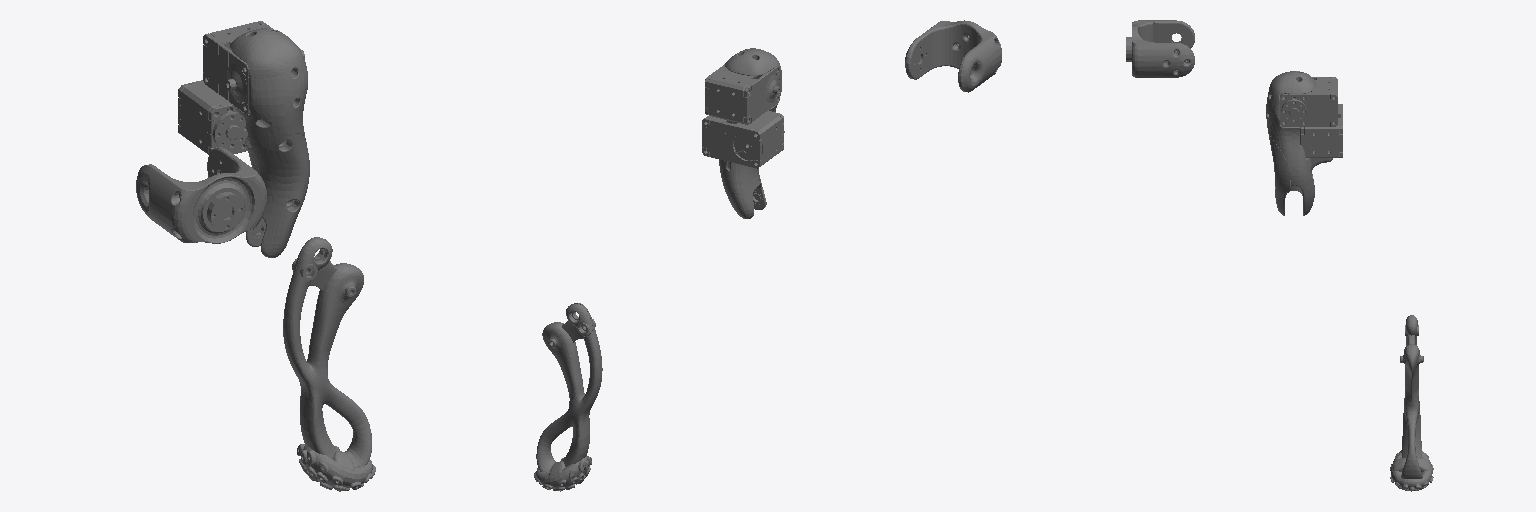
The robot description file, URDF, robot "normaleg2.SLDASM":
<robot
  name="normaleg2.SLDASM">
  <link
    name="body">
    <inertial>
      <origin
        xyz="0 0 0"
        rpy="0 0 0" />
      <mass
        value="0.1" />
      <inertia
        ixx="0.001"
        ixy="0"
        ixz="0"
        iyy="0.001"
        iyz="0"
        izz="0.001" />
    </inertial>
    <visual>
      <origin
        xyz="0 0 0"
        rpy="0 0 0" />
      <geometry>
        <mesh
          filename="package://Nyanko/NyankoModel/meshes/body.stl" />
      </geometry>
      <material
        name="">
        <color
          rgba="0.5 0.5 0.5 1" />
      </material>
    </visual>
    <collision>
      <origin
        xyz="0 0 0"
        rpy="0 0 0" />
      <geometry>
        <mesh
          filename="package://Nyanko/NyankoModel/meshes/body.stl" />
      </geometry>
    </collision>
  </link>
  <link
    name="link0_0">
    <inertial>
      <origin
        xyz="0 0 0"
        rpy="0 0 0" />
      <mass
        value="0.1" />
      <inertia
        ixx="0.001"
        ixy="0"
        ixz="0"
        iyy="0.001"
        iyz="0"
        izz="0.001" />
    </inertial>
    <visual>
      <origin
        xyz="0 0 0"
        rpy="0 0 0" />
      <geometry>
        <mesh
          filename="package://NyankoModel/meshes/link0_0.stl" />
      </geometry>
      <material
        name="">
        <color
          rgba="0.5 0.5 0.5 1" />
      </material>
    </visual>
    <collision>
      <origin
        xyz="0 0 0"
        rpy="0 0 0" />
      <geometry>
        <mesh
          filename="package://NyankoModel/meshes/link0_0.stl" />
      </geometry>
    </collision>
  </link>
  <joint
    name="joint0_0"
    type="revolute">
    <origin
      xyz="100E-3 94E-3 0"
      rpy="0 0 0" />
    <parent
      link="body" />
    <child
      link="link0_0" />
    <axis
      xyz="0 1 0" />
    <limit
      lower="-3.14159"
      upper="3.14159"
      effort="0"
      velocity="0" />
  </joint>
  <link
    name="link0_1">
    <inertial>
      <origin
        xyz="0 0 0"
        rpy="0 0 0" />
      <mass
        value="0.1" />
      <inertia
        ixx="0.001"
        ixy="0"
        ixz="0"
        iyy="0.001"
        iyz="0"
        izz="0.001" />
    </inertial>
    <visual>
      <origin
        xyz="0 0 0"
        rpy="0 0 0" />
      <geometry>
        <mesh
          filename="package://NyankoModel/meshes/link0_1.stl" />
      </geometry>
      <material
        name="">
        <color
          rgba="0.5 0.5 0.5 1" />
      </material>
    </visual>
    <collision>
      <origin
        xyz="0 0 0"
        rpy="0 0 0" />
      <geometry>
        <mesh
          filename="package://NyankoModel/meshes/link0_1.stl" />
      </geometry>
    </collision>
  </link>
  <joint
    name="joint0_1"
    type="revolute">
    <origin
      xyz="100E-3 94E-3 0"
      rpy="0 0 0" />
    <parent
      link="link0_0" />
    <child
      link="link0_1" />
    <axis
      xyz="1 0 0" />
    <limit
      lower="-3.14159"
      upper="3.14159"
      effort="0"
      velocity="0" />
  </joint>
  <link
    name="link0_2">
    <inertial>
      <origin
        xyz="0 0 0"
        rpy="0 0 0" />
      <mass
        value="0.1" />
      <inertia
        ixx="0.001"
        ixy="0"
        ixz="0"
        iyy="0.001"
        iyz="0"
        izz="0.001" />
    </inertial>
    <visual>
      <origin
        xyz="0 0 0"
        rpy="0 0 0" />
      <geometry>
        <mesh
          filename="package://NyankoModel/meshes/link0_2.stl" />
      </geometry>
      <material
        name="">
        <color
          rgba="0.5 0.5 0.5 1" />
      </material>
    </visual>
    <collision>
      <origin
        xyz="0 0 0"
        rpy="0 0 0" />
      <geometry>
        <mesh
          filename="package://NyankoModel/meshes/link0_2.stl" />
      </geometry>
    </collision>
  </link>
  <joint
    name="joint0_2"
    type="revolute">
    <origin
      xyz="100E-3 94E-3 -90E-3"
      rpy="0 0 0" />
    <parent
      link="link0_1" />
    <child
      link="link0_2" />
    <axis
      xyz="0 1 0" />
    <limit
      lower="-3.14159"
      upper="3.14159"
      effort="0"
      velocity="0" />
  </joint>
  <!-- <link
    name="link1_0">
    <inertial>
      <origin
        xyz="-8.18789480661053E-15 0.0286597433757145 -0.00828480696674982"
        rpy="0 0 0" />
      <mass
        value="0.119993622434813" />
      <inertia
        ixx="0.00058348983011341"
        ixy="7.75056537842799E-17"
        ixz="1.10799777903772E-17"
        iyy="0.00052289059772021"
        iyz="1.38974545464624E-07"
        izz="8.31021201387875E-05" />
    </inertial>
    <visual>
      <origin
        xyz="0 0 0"
        rpy="0 0 0" />
      <geometry>
        <mesh
          filename="package://normaleg2.SLDASM/meshes/link1_0.STL" />
      </geometry>
      <material
        name="">
        <color
          rgba="0.752941176470588 0.752941176470588 0.752941176470588 1" />
      </material>
    </visual>
    <collision>
      <origin
        xyz="0 0 0"
        rpy="0 0 0" />
      <geometry>
        <mesh
          filename="package://normaleg2.SLDASM/meshes/link1_0.STL" />
      </geometry>
    </collision>
  </link>
  <joint
    name="joint1_0"
    type="revolute">
    <origin
      xyz="-0.1225 0.0708 3.2938E-05"
      rpy="0 0 0" />
    <parent
      link="body" />
    <child
      link="link1_0" />
    <axis
      xyz="0 1 0" />
    <limit
      lower="-2.2"
      upper="2.2"
      effort="0"
      velocity="0" />
  </joint>
  <link
    name="link1_1">
    <inertial>
      <origin
        xyz="3.41040538864856E-09 0.0253978796233885 -0.032755096721108"
        rpy="0 0 0" />
      <mass
        value="0.114258764392469" />
      <inertia
        ixx="0.000188444989050106"
        ixy="-7.91169407760288E-12"
        ixz="-6.27777906752786E-12"
        iyy="0.000166128787576779"
        iyz="-1.23196533852848E-06"
        izz="3.56976105614846E-05" />
    </inertial>
    <visual>
      <origin
        xyz="0 0 0"
        rpy="0 0 0" />
      <geometry>
        <mesh
          filename="package://normaleg2.SLDASM/meshes/link1_1.STL" />
      </geometry>
      <material
        name="">
        <color
          rgba="0.752941176470588 0.752941176470588 0.752941176470588 1" />
      </material>
    </visual>
    <collision>
      <origin
        xyz="0 0 0"
        rpy="0 0 0" />
      <geometry>
        <mesh
          filename="package://normaleg2.SLDASM/meshes/link1_1.STL" />
      </geometry>
    </collision>
  </link>
  <joint
    name="joint1_1"
    type="revolute">
    <origin
      xyz="0 0.0036 -0.11"
      rpy="0 0 0" />
    <parent
      link="link1_0" />
    <child
      link="link1_1" />
    <axis
      xyz="0 1 0" />
    <limit
      lower="-2.2"
      upper="2.2"
      effort="0"
      velocity="0" />
  </joint>
  <link
    name="link2_0">
    <inertial>
      <origin
        xyz="7.81319453579954E-15 -0.0286597433757144 -0.00828480696674894"
        rpy="0 0 0" />
      <mass
        value="0.119993622434813" />
      <inertia
        ixx="0.000583489830113411"
        ixy="7.74467388923928E-17"
        ixz="-1.09735998480262E-17"
        iyy="0.000522890597720211"
        iyz="-1.38974545461629E-07"
        izz="8.31021201387877E-05" />
    </inertial>
    <visual>
      <origin
        xyz="0 0 0"
        rpy="0 0 0" />
      <geometry>
        <mesh
          filename="package://normaleg2.SLDASM/meshes/link2_0.STL" />
      </geometry>
      <material
        name="">
        <color
          rgba="0.752941176470588 0.752941176470588 0.752941176470588 1" />
      </material>
    </visual>
    <collision>
      <origin
        xyz="0 0 0"
        rpy="0 0 0" />
      <geometry>
        <mesh
          filename="package://normaleg2.SLDASM/meshes/link2_0.STL" />
      </geometry>
    </collision>
  </link>
  <joint
    name="joint2_0"
    type="revolute">
    <origin
      xyz="0.1225 -0.0708 3.2938E-05"
      rpy="0 0 0" />
    <parent
      link="body" />
    <child
      link="link2_0" />
    <axis
      xyz="0 1 0" />
    <limit
      lower="-2.2"
      upper="2.2"
      effort="0"
      velocity="0" />
  </joint>
  <link
    name="link2_1">
    <inertial>
      <origin
        xyz="-3.41040543028193E-09 -0.0253978796233883 -0.0327550967211083"
        rpy="0 0 0" />
      <mass
        value="0.114258764392469" />
      <inertia
        ixx="0.000188444989050105"
        ixy="-7.91169410888065E-12"
        ixz="6.27777917831511E-12"
        iyy="0.000166128787576779"
        iyz="1.23196533852935E-06"
        izz="3.56976105614846E-05" />
    </inertial>
    <visual>
      <origin
        xyz="0 0 0"
        rpy="0 0 0" />
      <geometry>
        <mesh
          filename="package://normaleg2.SLDASM/meshes/link2_1.STL" />
      </geometry>
      <material
        name="">
        <color
          rgba="0.752941176470588 0.752941176470588 0.752941176470588 1" />
      </material>
    </visual>
    <collision>
      <origin
        xyz="0 0 0"
        rpy="0 0 0" />
      <geometry>
        <mesh
          filename="package://normaleg2.SLDASM/meshes/link2_1.STL" />
      </geometry>
    </collision>
  </link>
  <joint
    name="joint2_1"
    type="revolute">
    <origin
      xyz="0 -0.0036 -0.11"
      rpy="0 0 0" />
    <parent
      link="link2_0" />
    <child
      link="link2_1" />
    <axis
      xyz="0 1 0" />
    <limit
      lower="-2.2"
      upper="2.2"
      effort="0"
      velocity="0" />
  </joint>
  <link
    name="link3_0">
    <inertial>
      <origin
        xyz="7.84095011141517E-15 -0.0286597433757144 -0.00828480696674944"
        rpy="0 0 0" />
      <mass
        value="0.119993622434813" />
      <inertia
        ixx="0.00058348983011341"
        ixy="7.74138856534743E-17"
        ixz="-1.09466090121978E-17"
        iyy="0.00052289059772021"
        iyz="-1.38974545461476E-07"
        izz="8.31021201387876E-05" />
    </inertial>
    <visual>
      <origin
        xyz="0 0 0"
        rpy="0 0 0" />
      <geometry>
        <mesh
          filename="package://normaleg2.SLDASM/meshes/link3_0.STL" />
      </geometry>
      <material
        name="">
        <color
          rgba="0.752941176470588 0.752941176470588 0.752941176470588 1" />
      </material>
    </visual>
    <collision>
      <origin
        xyz="0 0 0"
        rpy="0 0 0" />
      <geometry>
        <mesh
          filename="package://normaleg2.SLDASM/meshes/link3_0.STL" />
      </geometry>
    </collision>
  </link>
  <joint
    name="joint3_0"
    type="revolute">
    <origin
      xyz="-0.1225 -0.0708 3.2938E-05"
      rpy="0 0 0" />
    <parent
      link="body" />
    <child
      link="link3_0" />
    <axis
      xyz="0 1 0" />
    <limit
      lower="-2.2"
      upper="2.2"
      effort="0"
      velocity="0" />
  </joint>
  <link
    name="link3_1">
    <inertial>
      <origin
        xyz="-3.41047638741099E-09 -0.0253978796235801 -0.0327550967209995"
        rpy="0 0 0" />
      <mass
        value="0.114258764393525" />
      <inertia
        ixx="0.000188444989050482"
        ixy="-7.91186595284479E-12"
        ixz="6.27786743652176E-12"
        iyy="0.000166128787576994"
        iyz="1.23196533872565E-06"
        izz="3.56976105617788E-05" />
    </inertial>
    <visual>
      <origin
        xyz="0 0 0"
        rpy="0 0 0" />
      <geometry>
        <mesh
          filename="package://normaleg2.SLDASM/meshes/link3_1.STL" />
      </geometry>
      <material
        name="">
        <color
          rgba="0.752941176470588 0.752941176470588 0.752941176470588 1" />
      </material>
    </visual>
    <collision>
      <origin
        xyz="0 0 0"
        rpy="0 0 0" />
      <geometry>
        <mesh
          filename="package://normaleg2.SLDASM/meshes/link3_1.STL" />
      </geometry>
    </collision>
  </link>
  <joint
    name="joint3_1"
    type="revolute">
    <origin
      xyz="0 -0.0036 -0.11"
      rpy="0 0 0" />
    <parent
      link="link3_0" />
    <child
      link="link3_1" />
    <axis
      xyz="0 1 0" />
    <limit
      lower="-2.2"
      upper="2.2"
      effort="0"
      velocity="0" />
  </joint> -->
</robot>

--- Facts derived from the render (not from the file) ---
3 views of the same robot in one strip: view 1: azimuth 30°, elevation 25°; view 2: azimuth 150°, elevation 25°; view 3: azimuth 270°, elevation 25° (orthographic).
Model normaleg2.SLDASM with 4 links and 3 joints (3 revolute), rooted at body, posed every joint at zero.
Visible links, largest first — view 1: link0_1, link0_2, link0_0; view 2: link0_1, link0_2, link0_0; view 3: link0_1, link0_2, link0_0.
Boxes of the visible links, x1,y1,x2,y2 form: link0_1: [178, 21, 309, 257]; link0_2: [283, 237, 375, 491]; link0_0: [136, 147, 266, 243]; link0_1: [702, 48, 784, 218]; link0_2: [534, 303, 602, 491]; link0_0: [905, 20, 1001, 92]; link0_1: [1266, 71, 1342, 215]; link0_2: [1390, 315, 1433, 491]; link0_0: [1126, 20, 1194, 77].
Size in the robot's own frame: 0.2449 by 0.2453 by 0.3191 metres.
Meshes: 4 distinct files referenced, 3 mesh visuals loaded (3 binary STL); not drawn: 1 (reference not matched to a file when rendering).
